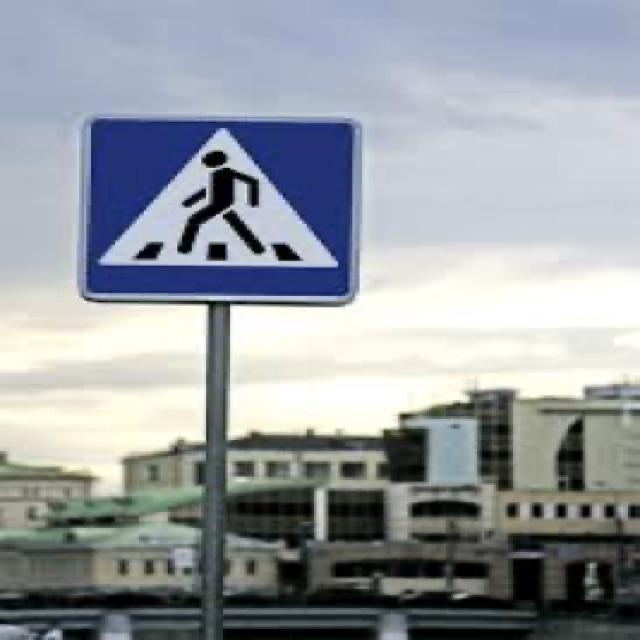crosswalk_sign: (74, 110, 368, 310)
